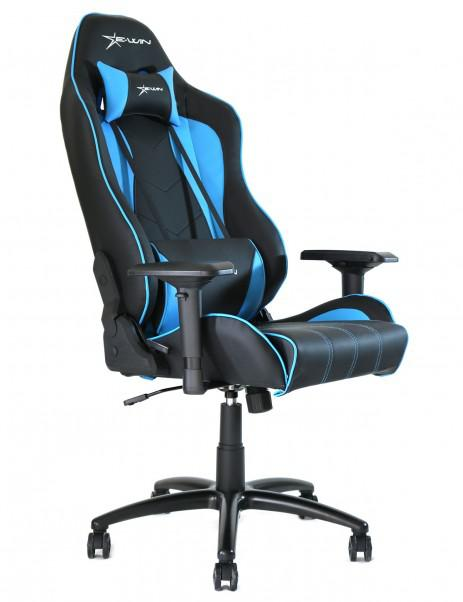chair: (39, 8, 416, 599)
